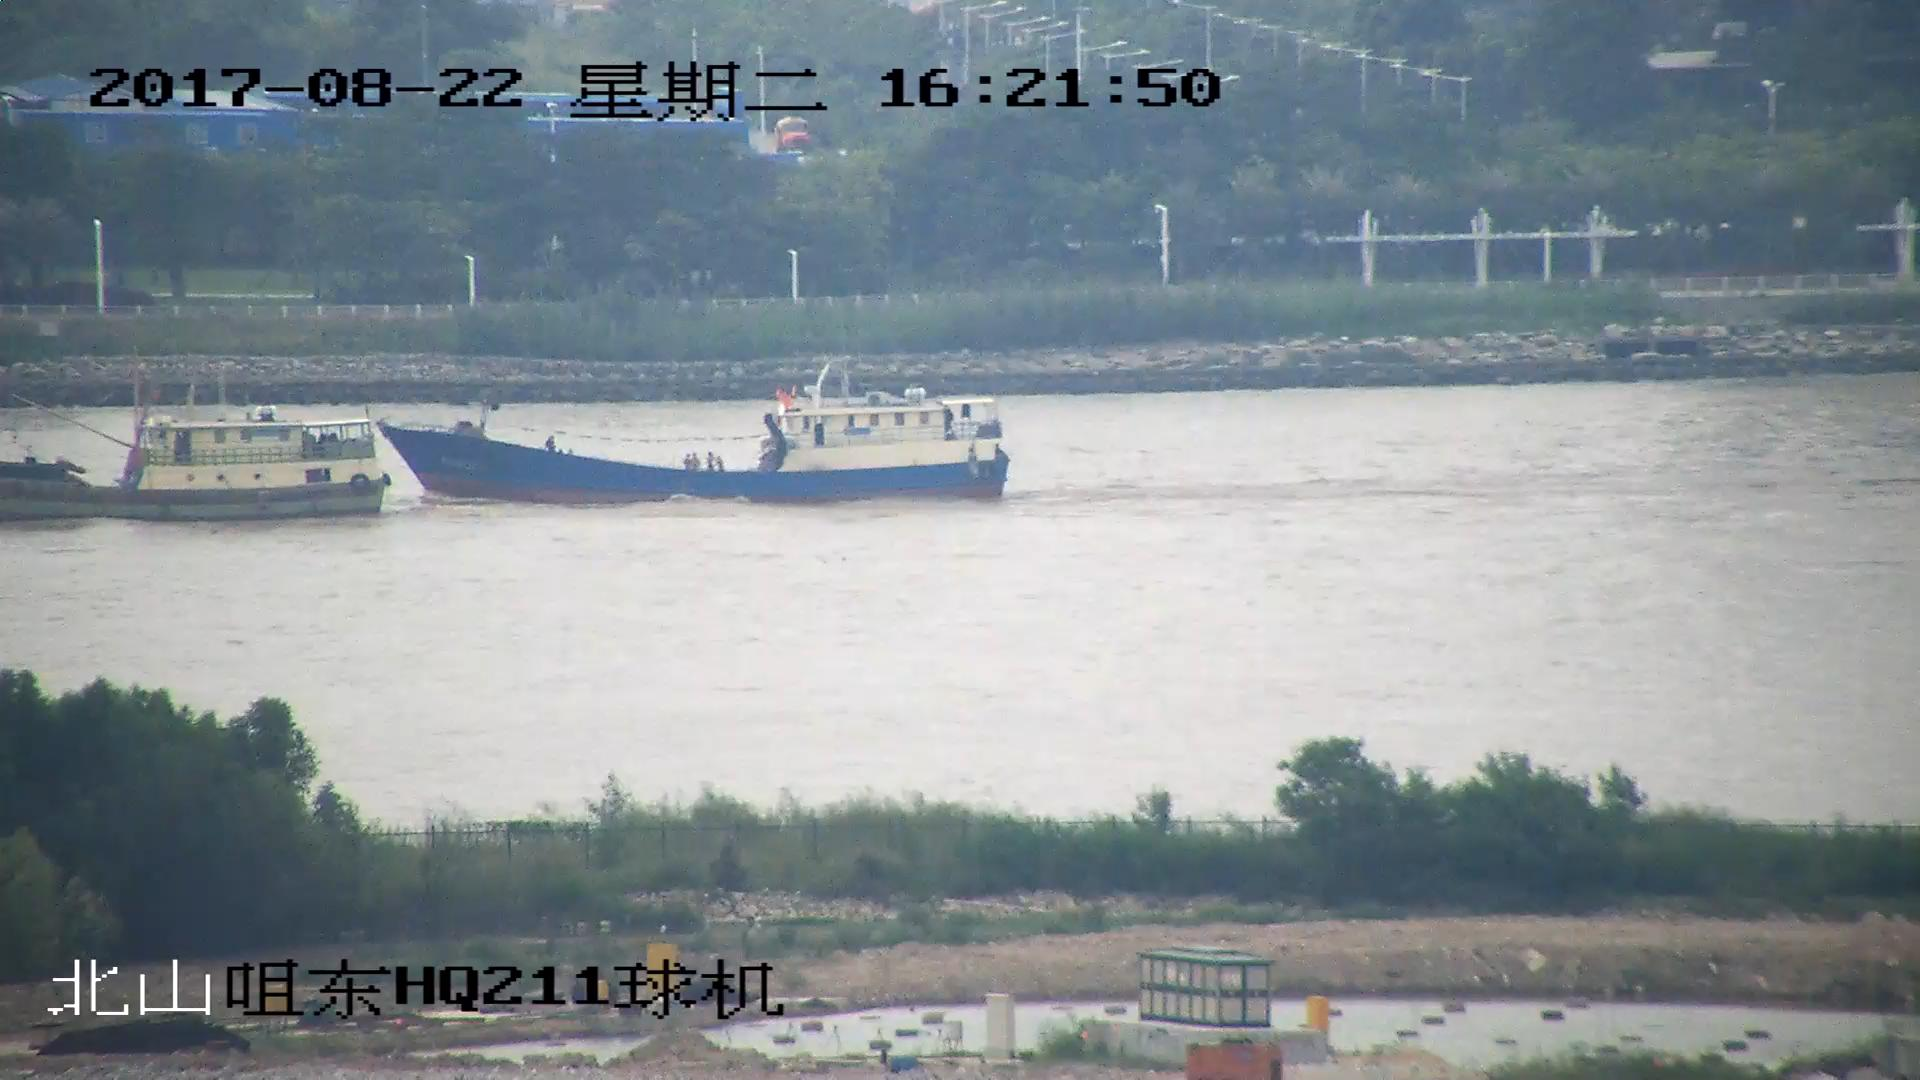fishing boat: (374, 354, 1010, 508), (1, 372, 393, 522)
